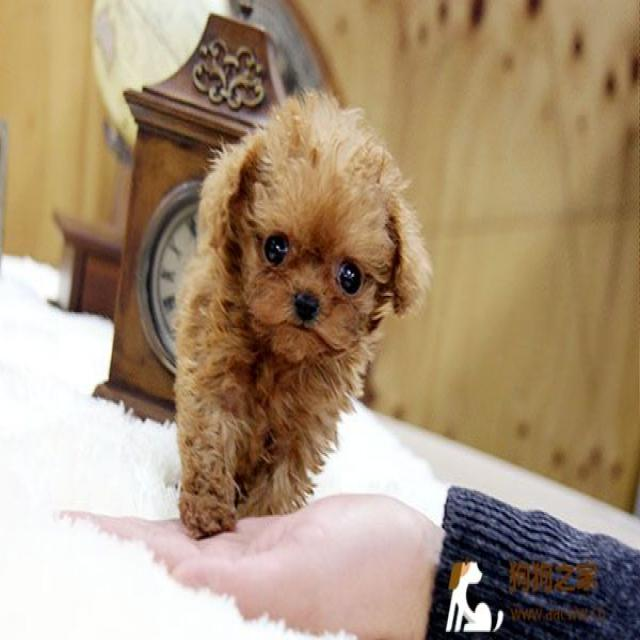eye: (334, 254, 365, 298), (260, 227, 290, 271)
